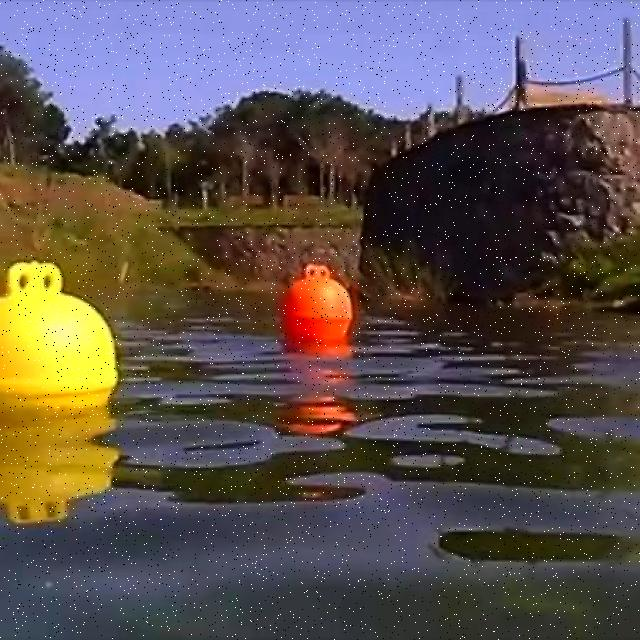buoy: (0, 262, 118, 403), (284, 267, 353, 347)
